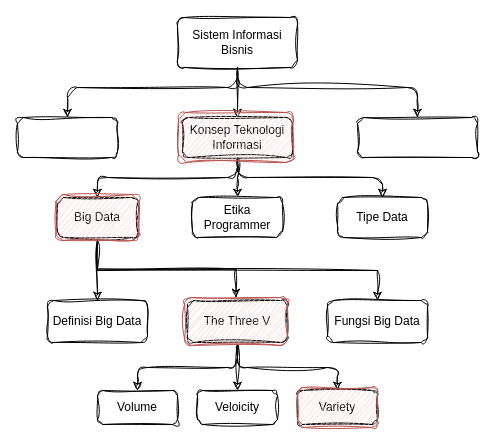
The diagram is 495 pixels wide and 445 high, and some of its shapes have lost their labels. Each missing label, with the centre of its shape:
Critical Thinking and Problem Solving: (x=417, y=137)
Dasar Pemrograman: (x=67, y=137)
